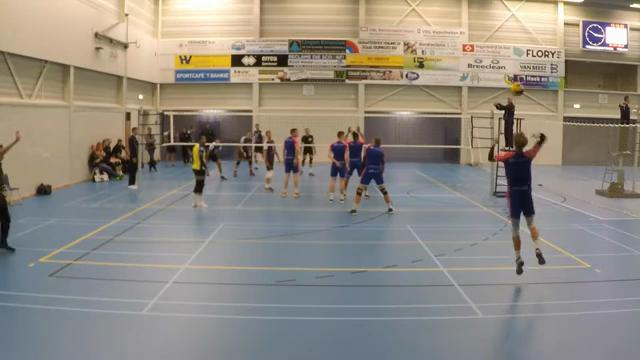battuta: (482, 126, 559, 283)
